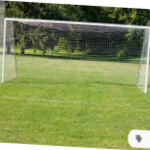goals: (1, 15, 150, 96)
